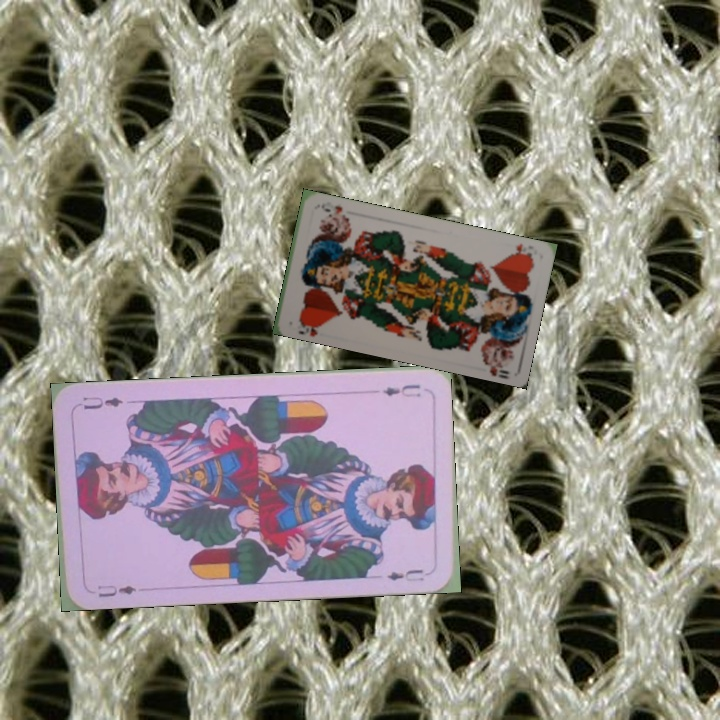EU: (94, 580, 144, 600), (379, 380, 423, 400)
HO: (295, 315, 327, 338), (507, 239, 536, 262)
